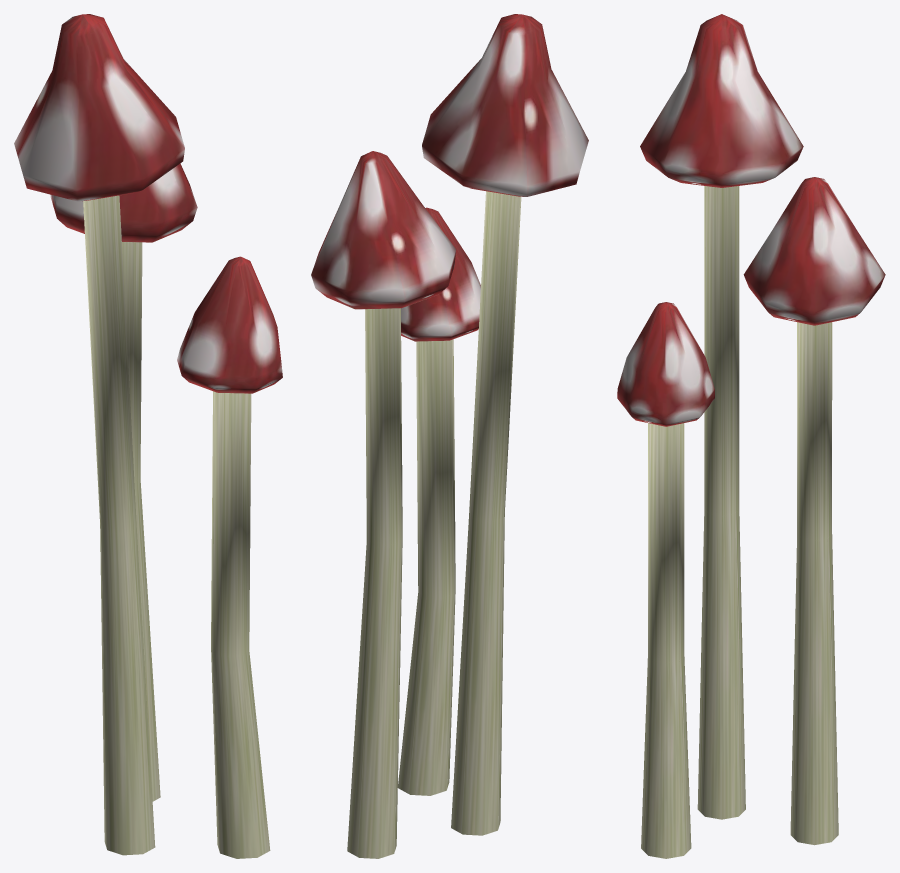
Rendered from Mushroom_Tall.glb.
3 renders of one model, left to right at view 1: azimuth 30°, elevation 25°; view 2: azimuth 150°, elevation 25°; view 3: azimuth 270°, elevation 25°, orthographic. The views are drawn at different scales.
Visible parts, largest first — view 1: Shroom6, Shroom5, Shroom4; view 2: Shroom6, Shroom4, Shroom5; view 3: Shroom6, Shroom4, Shroom5.
Boxes of the visible parts, x1,y1,x2,y2 form: Shroom6: (14, 14, 184, 855); Shroom5: (177, 256, 282, 858); Shroom4: (50, 163, 197, 801); Shroom6: (422, 14, 588, 835); Shroom4: (311, 151, 456, 858); Shroom5: (398, 207, 480, 795); Shroom6: (640, 14, 803, 819); Shroom4: (743, 177, 885, 845); Shroom5: (617, 302, 714, 858).
Bounding box in the file's own units: 0.1814 × 0.65 × 0.2038.
1 material, 1 textured.
